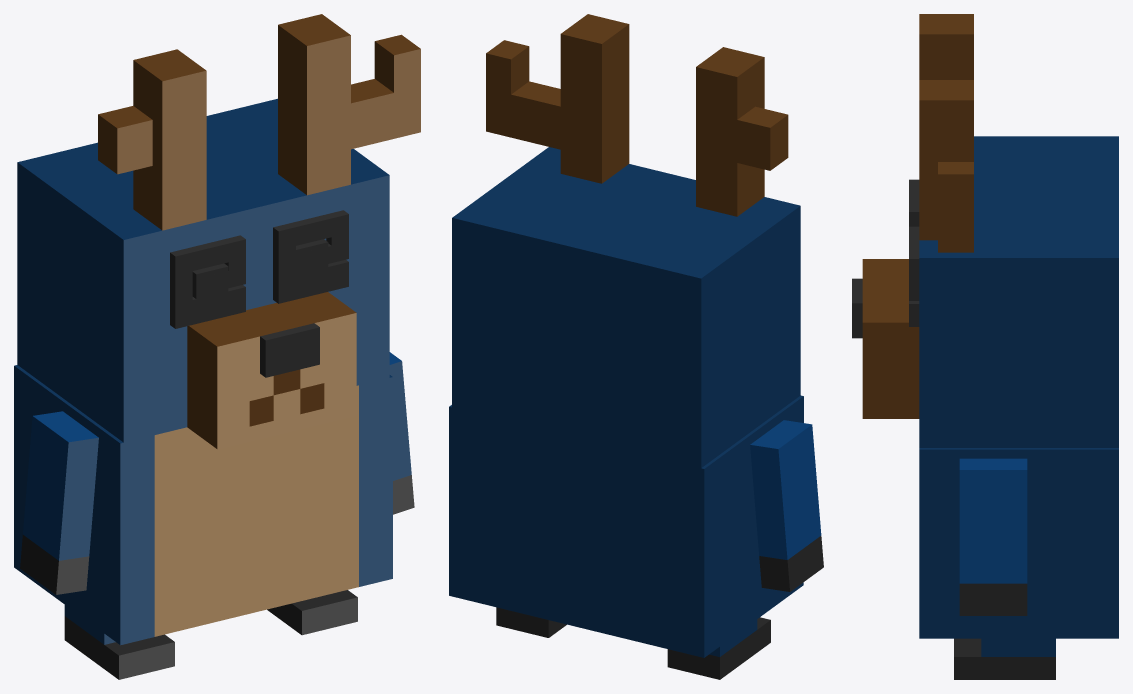
3 renders of one model, left to right at view 1: azimuth 30°, elevation 25°; view 2: azimuth 150°, elevation 25°; view 3: azimuth 270°, elevation 25°, orthographic. The views are drawn at different scales.
Visible parts, largest first — view 1: Ch_27_Head, Ch_27, Ch_27_Hand_L, Ch_27_Eye_03_R, Ch_27_Eye_03_L, Ch_27_Leg_L, Ch_27_Eye_02, Ch_27_Leg_R, Ch_27_Hand_R, Ch_27_Eye_01; view 2: Ch_27_Head, Ch_27, Ch_27_Hand_L, Ch_27_Leg_L, Ch_27_Leg_R; view 3: Ch_27_Head, Ch_27, Ch_27_Hand_R, Ch_27_Leg_R, Ch_27_Eye_03_R, Ch_27_Eye_03_L.
Boxes of the visible parts, left/top/right/bottom form: Ch_27_Head: left=17, top=14, right=420, bottom=449; Ch_27: left=14, top=365, right=392, bottom=645; Ch_27_Hand_L: left=20, top=411, right=98, bottom=594; Ch_27_Eye_03_R: left=273, top=210, right=348, bottom=303; Ch_27_Eye_03_L: left=170, top=235, right=245, bottom=328; Ch_27_Leg_L: left=64, top=605, right=174, bottom=679; Ch_27_Eye_02: left=170, top=259, right=348, bottom=322; Ch_27_Leg_R: left=267, top=590, right=357, bottom=635; Ch_27_Hand_R: left=389, top=352, right=414, bottom=514; Ch_27_Eye_01: left=192, top=239, right=328, bottom=318; Ch_27_Head: left=452, top=14, right=800, bottom=467; Ch_27: left=449, top=395, right=803, bottom=657; Ch_27_Hand_L: left=750, top=420, right=823, bottom=591; Ch_27_Leg_L: left=667, top=617, right=770, bottom=679; Ch_27_Leg_R: left=496, top=607, right=566, bottom=637; Ch_27_Head: left=852, top=14, right=1118, bottom=447; Ch_27: left=919, top=448, right=1118, bottom=638; Ch_27_Hand_R: left=959, top=458, right=1027, bottom=615; Ch_27_Leg_R: left=954, top=638, right=1055, bottom=679; Ch_27_Eye_03_R: left=909, top=226, right=919, bottom=326; Ch_27_Eye_03_L: left=909, top=179, right=919, bottom=226.
Size of the model in its own units: 8.49 by 13.71 by 5.84.
